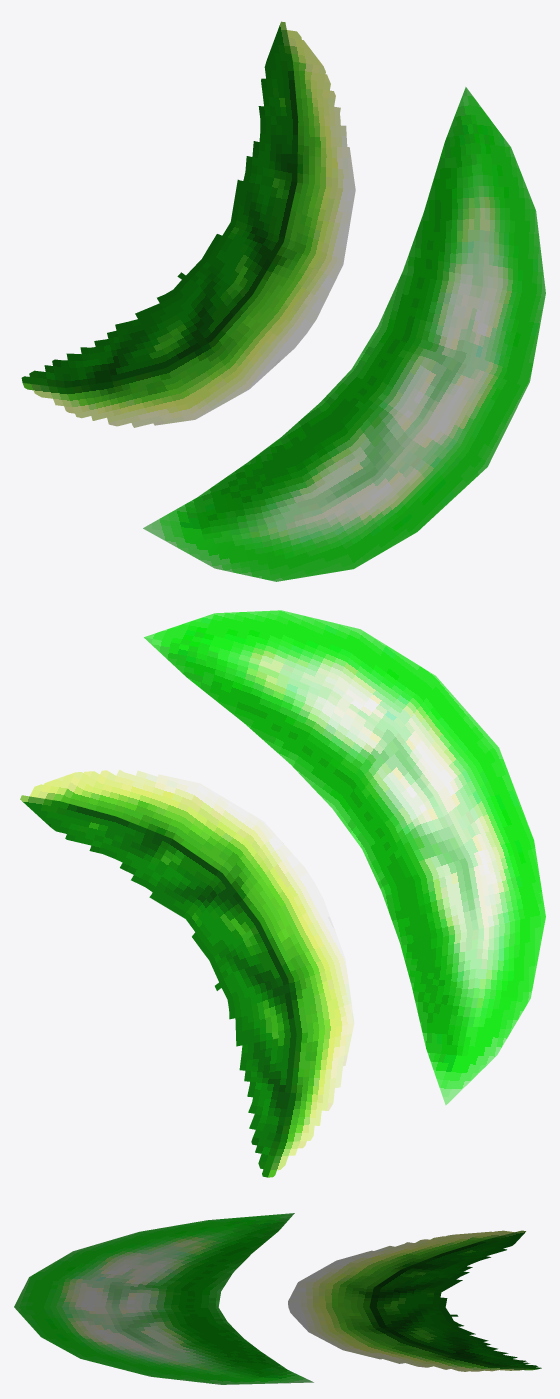
The model's file is Chikorita RazorLeaf.DAE.
3 renders of one model, top to bottom at view 1: azimuth 30°, elevation 25°; view 2: azimuth 150°, elevation 25°; view 3: azimuth 270°, elevation 25°, orthographic. The views are drawn at different scales.
Visible parts, largest first — view 1: objpolygon0, objpolygon1; view 2: objpolygon0, objpolygon1; view 3: objpolygon0, objpolygon1.
Boxes of the visible parts, bbox=[...] form: objpolygon0: bbox=[143, 87, 545, 581]; objpolygon1: bbox=[21, 21, 355, 427]; objpolygon0: bbox=[144, 610, 545, 1105]; objpolygon1: bbox=[20, 769, 354, 1177]; objpolygon0: bbox=[14, 1213, 313, 1384]; objpolygon1: bbox=[288, 1230, 541, 1371].
Bounding box in the file's own units: 2.48 × 4.87 × 2.87.
2 materials, 2 textured.
